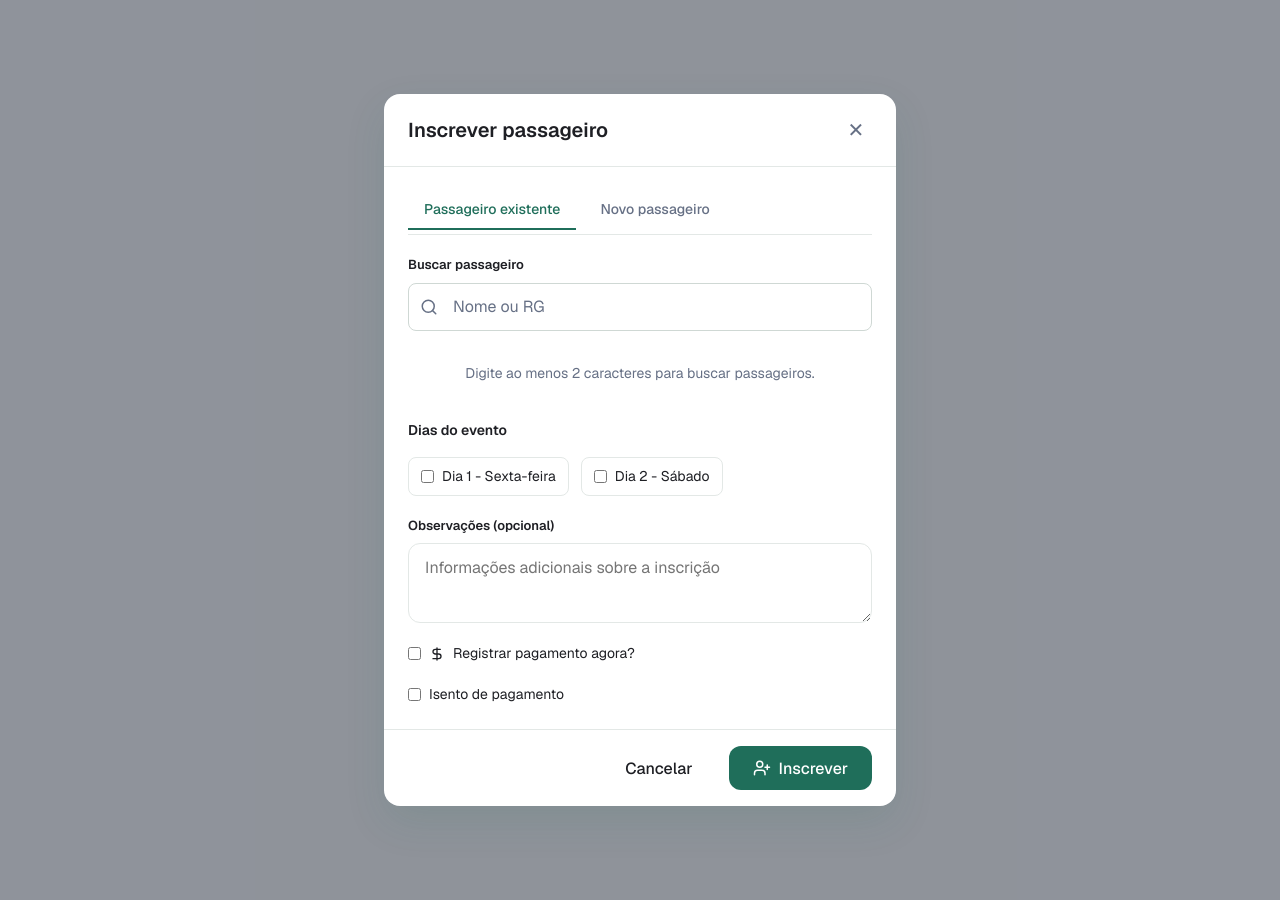
Test: EnrollPassengerModal › exibe campos de pagamento ao marcar checkbox
This screenshot has width=1280, height=900.
Click the checkbox labelled "Registrar pagamento agora?": (414, 654) [408, 647, 421, 660]
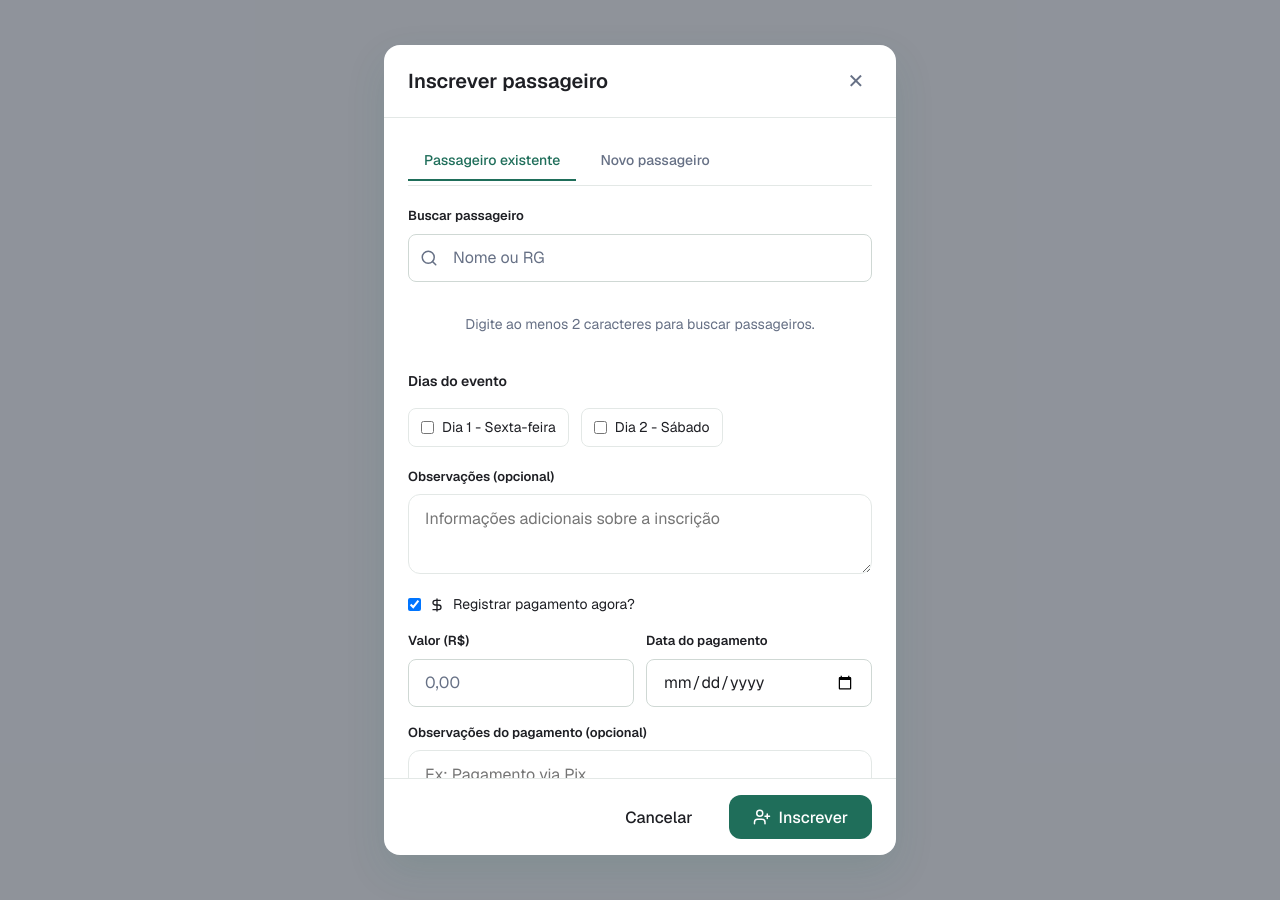
expect the number field labelled "Valor (R$)" is shown: met, box [408, 658, 634, 706]
expect the date field labelled "Data do pagamento" is shown: met, box [646, 658, 872, 706]
